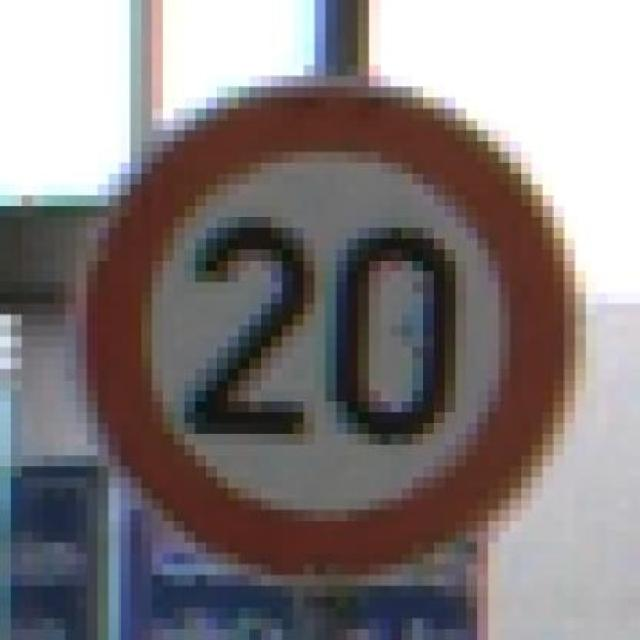forb_speed_over_20: (84, 81, 579, 574)
